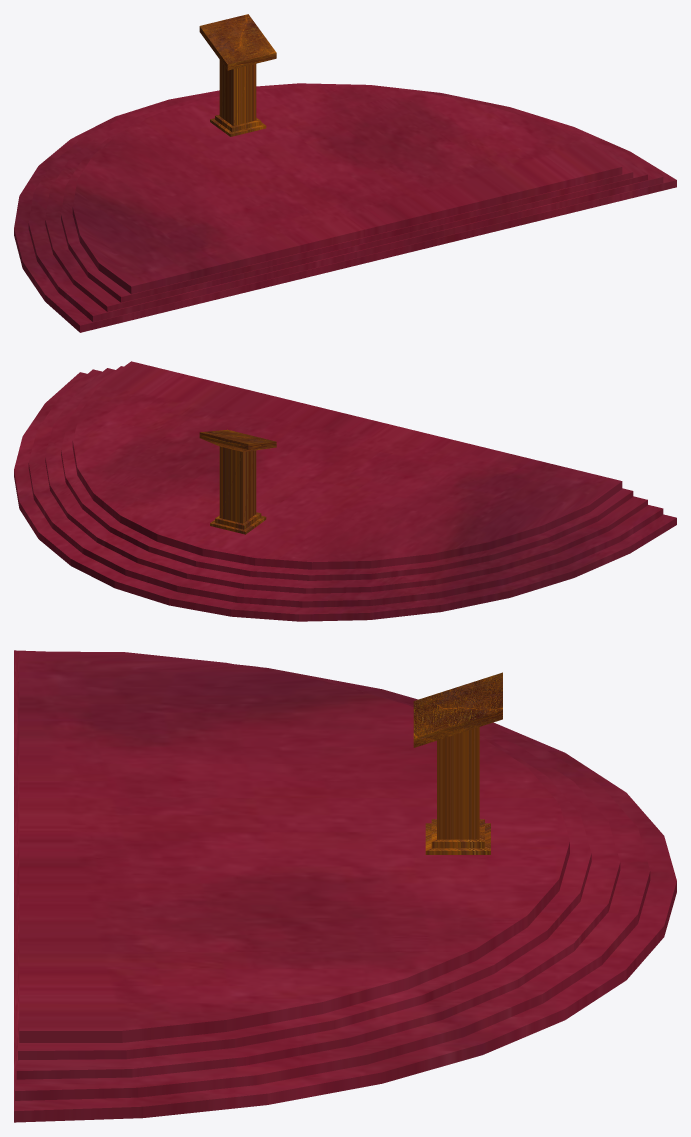
Rendered from Altar.glb.
3 renders of one model, top to bottom at view 1: azimuth 30°, elevation 25°; view 2: azimuth 150°, elevation 25°; view 3: azimuth 270°, elevation 25°, orthographic. The views are drawn at different scales.
Visible parts, largest first — view 1: Altar, Podium; view 2: Altar, Podium; view 3: Altar, Podium.
Part boxes in pixels (x1,y1,x2,y2): Altar: (14,83,676,332); Podium: (199,14,276,136); Altar: (14,361,676,621); Podium: (199,429,276,534); Altar: (14,650,676,1122); Podium: (413,672,502,854).
Bounding box in the file's own units: 9.22 × 1.87 × 5.6.
2 materials, 2 textured.
